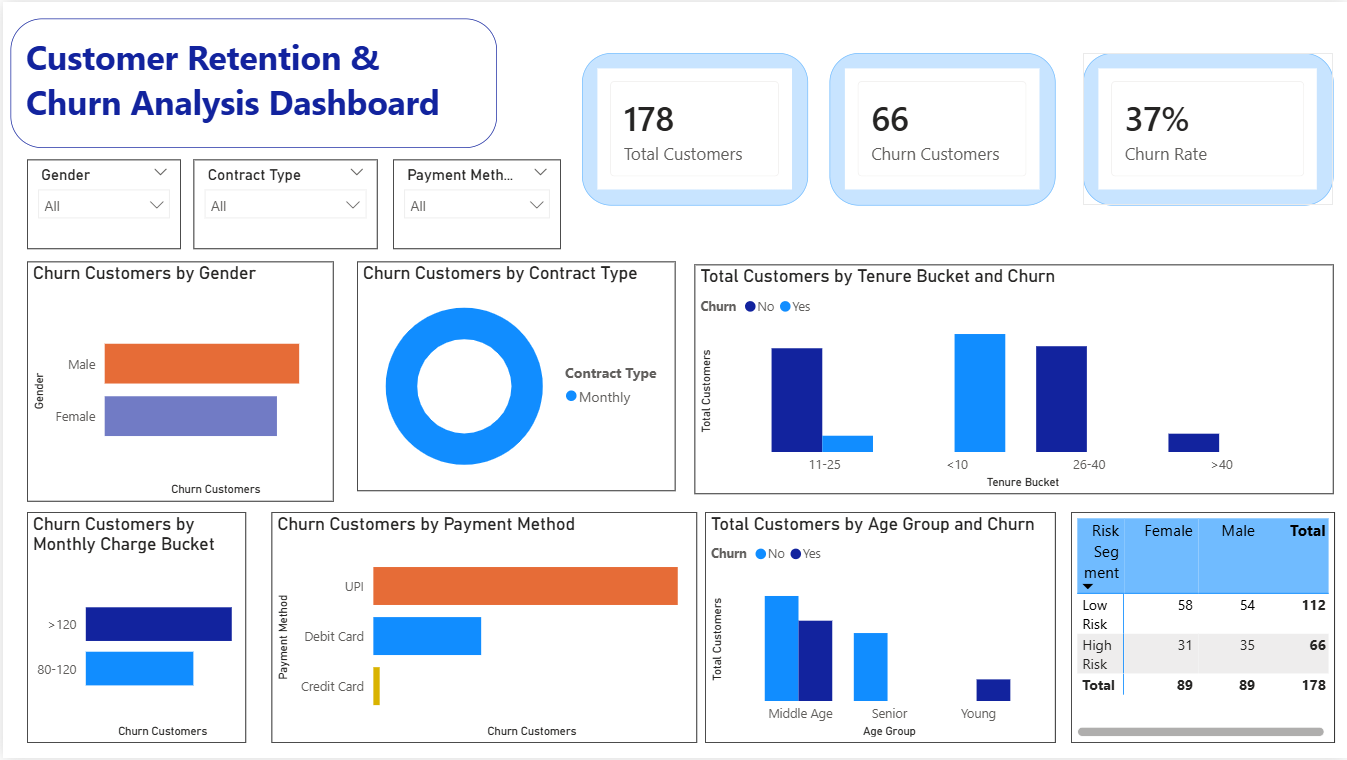

The page's visual inventory and layout, read from the dashboard file:
{"tool":"powerbi","page":{"name":"Page 1","canvas":[1280,720],"ordinal":0},"visuals":[{"type":"cardVisual","fields":{"Data":["Measure.Total Customers"]},"box":[551.7,48.3,215,145],"z":0},{"type":"cardVisual","fields":{"Data":["Measure.Churn Customers"]},"box":[786.7,48.3,215,145],"z":1000},{"type":"cardVisual","fields":{"Data":["Measure.Churn Rate"]},"box":[1028.3,48.3,238.3,145],"z":2000},{"type":"barChart","fields":{"Y":["Measure.Churn Customers"],"Category":["Customer_Churn_Data.Gender"]},"box":[23.3,246.7,291.7,228.3],"z":3000},{"type":"donutChart","fields":{"Category":["Customer_Churn_Data.Contract Type"],"Y":["Measure.Churn Customers"]},"box":[336.7,246.7,303.3,218.3],"z":4000},{"type":"barChart","fields":{"Y":["Measure.Churn Customers"],"Category":["Customer_Churn_Data.Payment Method"]},"box":[255,485,405,220],"z":5000},{"type":"barChart","fields":{"Y":["Measure.Churn Customers"],"Category":["Customer_Churn_Data.Monthly Charge Bucket"]},"box":[23.3,485,208.3,220],"z":6000},{"type":"clusteredColumnChart","fields":{"Category":["Customer_Churn_Data.Tenure Bucket"],"Y":["Measure.Total Customers"],"Series":["Customer_Churn_Data.Churn"]},"box":[658.6,250,608.6,218.6],"z":7000},{"type":"clusteredColumnChart","fields":{"Category":["Customer_Churn_Data.Age Group"],"Y":["Measure.Total Customers"],"Series":["Customer_Churn_Data.Churn"]},"box":[668.6,485.7,334.3,220],"z":8000},{"type":"pivotTable","fields":{"Rows":["Customer_Churn_Data.Risk Segment"],"Columns":["Customer_Churn_Data.Gender"],"Values":["Measure.Total Customers"]},"box":[1017.1,485.7,251.4,220],"z":9000},{"type":"textbox","box":[6.7,15,463.3,123.3],"z":10000},{"type":"slicer","fields":{"Values":["Customer_Churn_Data.Gender"]},"box":[23.3,150,146.7,85],"z":11000},{"type":"slicer","fields":{"Values":["Customer_Churn_Data.Contract Type"]},"box":[181.7,150,175,85],"z":12000},{"type":"slicer","fields":{"Values":["Customer_Churn_Data.Payment Method"]},"box":[371.7,150,160,85],"z":13000}]}

Visuals, with their boxes in screenshot pixels (x1, y1, x2, y2), scaled from the page's 1280x720 canvas onto the 1347x760 screenshot:
cardVisual - Measure.Total Customers: locate(581, 51, 807, 204)
cardVisual - Measure.Churn Customers: locate(828, 51, 1054, 204)
cardVisual - Measure.Churn Rate: locate(1082, 51, 1333, 204)
barChart - Measure.Churn Customers x Customer_Churn_Data.Gender: locate(25, 260, 331, 501)
donutChart - Customer_Churn_Data.Contract Type x Measure.Churn Customers: locate(354, 260, 674, 491)
barChart - Measure.Churn Customers x Customer_Churn_Data.Payment Method: locate(268, 512, 695, 744)
barChart - Measure.Churn Customers x Customer_Churn_Data.Monthly Charge Bucket: locate(25, 512, 244, 744)
clusteredColumnChart - Customer_Churn_Data.Tenure Bucket x Measure.Total Customers: locate(693, 264, 1334, 495)
clusteredColumnChart - Customer_Churn_Data.Age Group x Measure.Total Customers: locate(704, 513, 1055, 745)
pivotTable - Customer_Churn_Data.Risk Segment x Customer_Churn_Data.Gender: locate(1070, 513, 1335, 745)
textbox: locate(7, 16, 495, 146)
slicer - Customer_Churn_Data.Gender: locate(25, 158, 179, 248)
slicer - Customer_Churn_Data.Contract Type: locate(191, 158, 375, 248)
slicer - Customer_Churn_Data.Payment Method: locate(391, 158, 560, 248)
